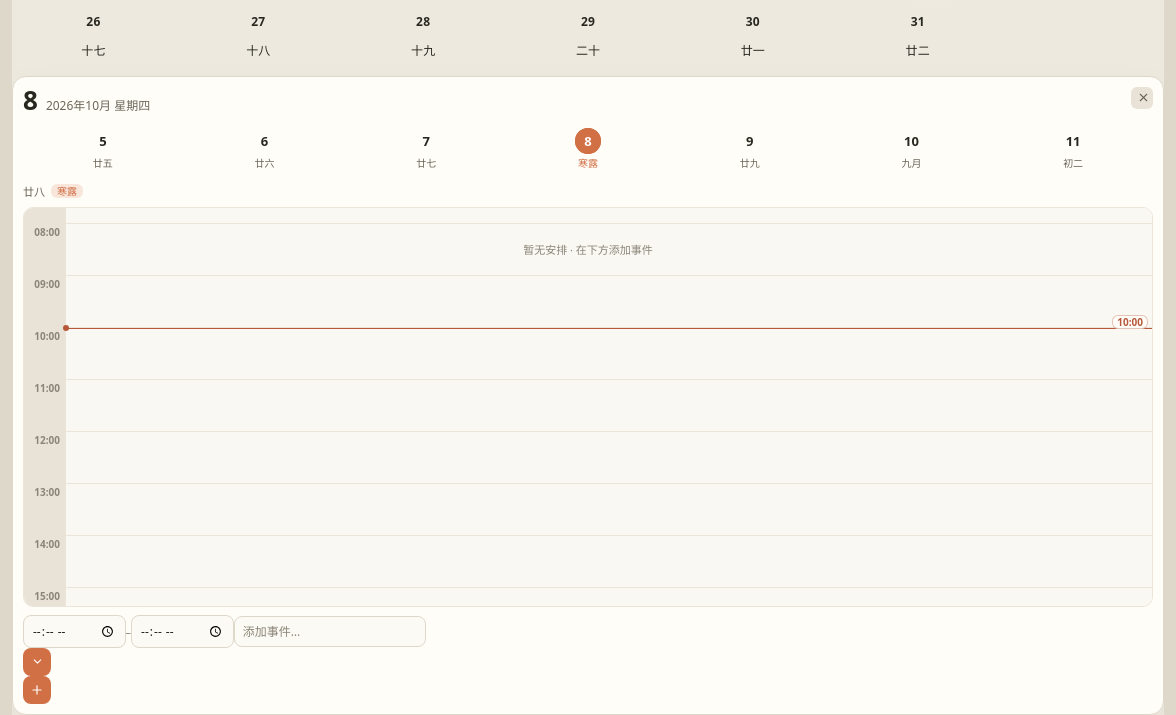
Test case: CalendarWidget 组件级回归 › 添加定时事件：表单提交 → localStorage 落盘 + 时间线出块 + 空态消失
This screenshot has width=1176, height=715.
(page scrolled)
Type "14:00" into the time field titled "开始时间（可选）" at (74, 631), box [23,615,126,648]
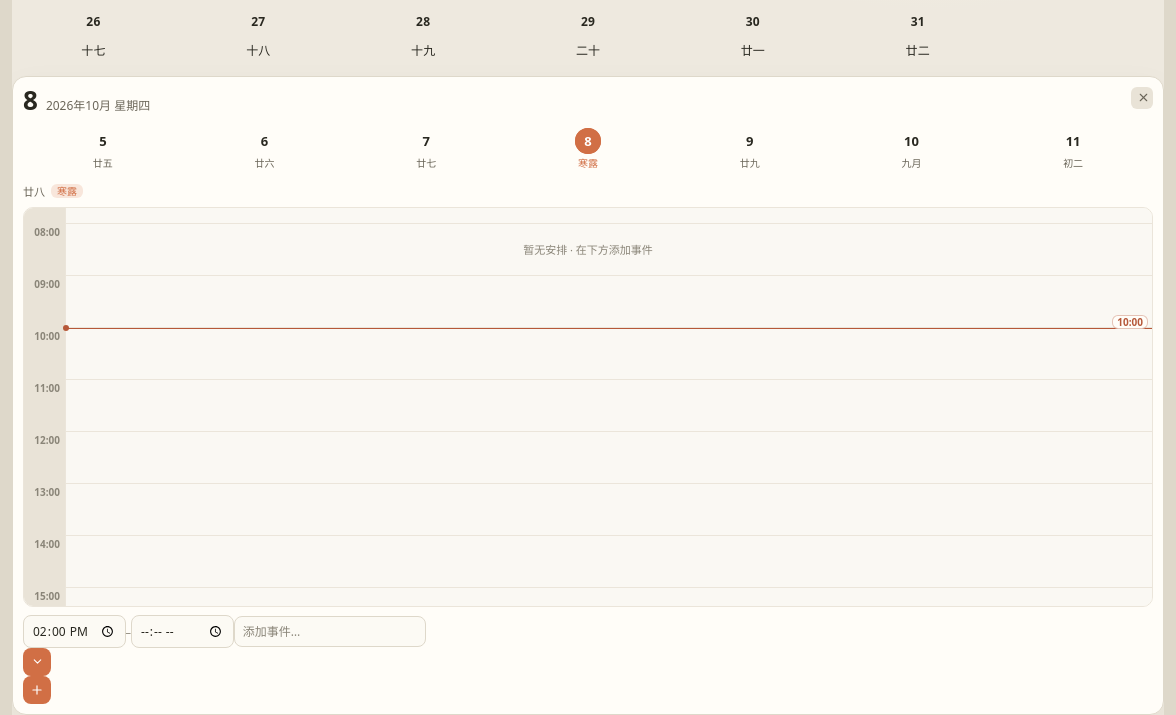
Type "下午评审" into the field with placeholder "添加事件…" at (330, 631), box [234,616,426,647]
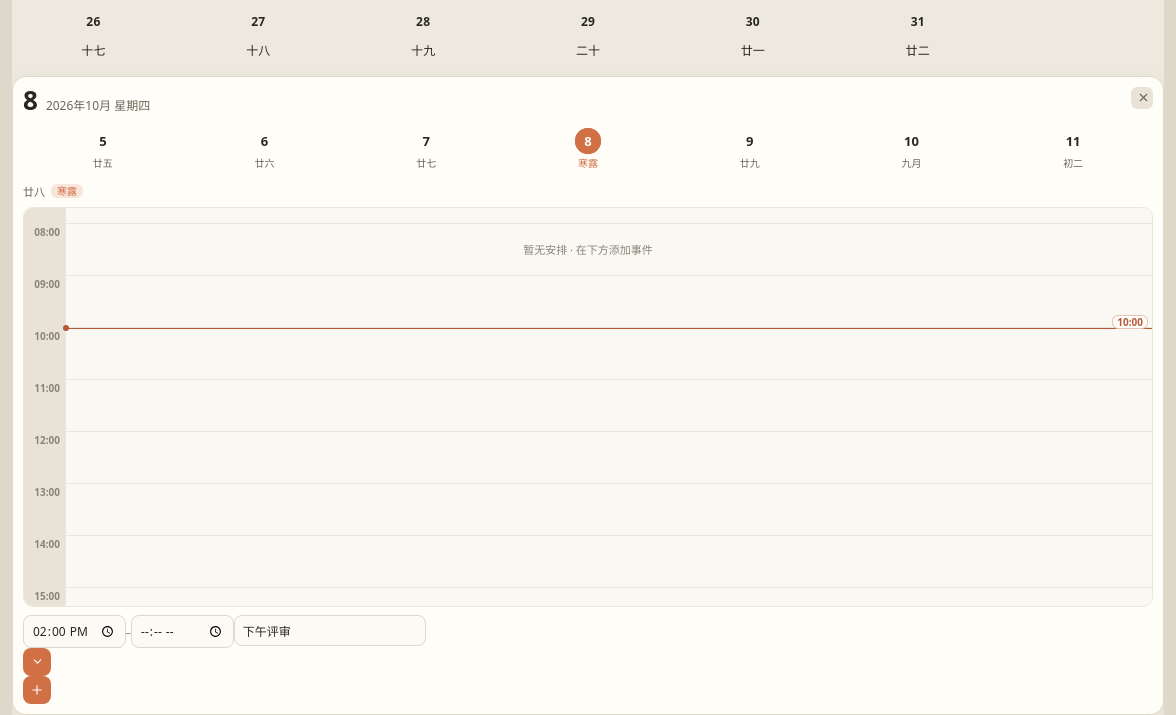
Click the button named "添加" at (37, 690), box [23,676,51,704]
(page scrolled)
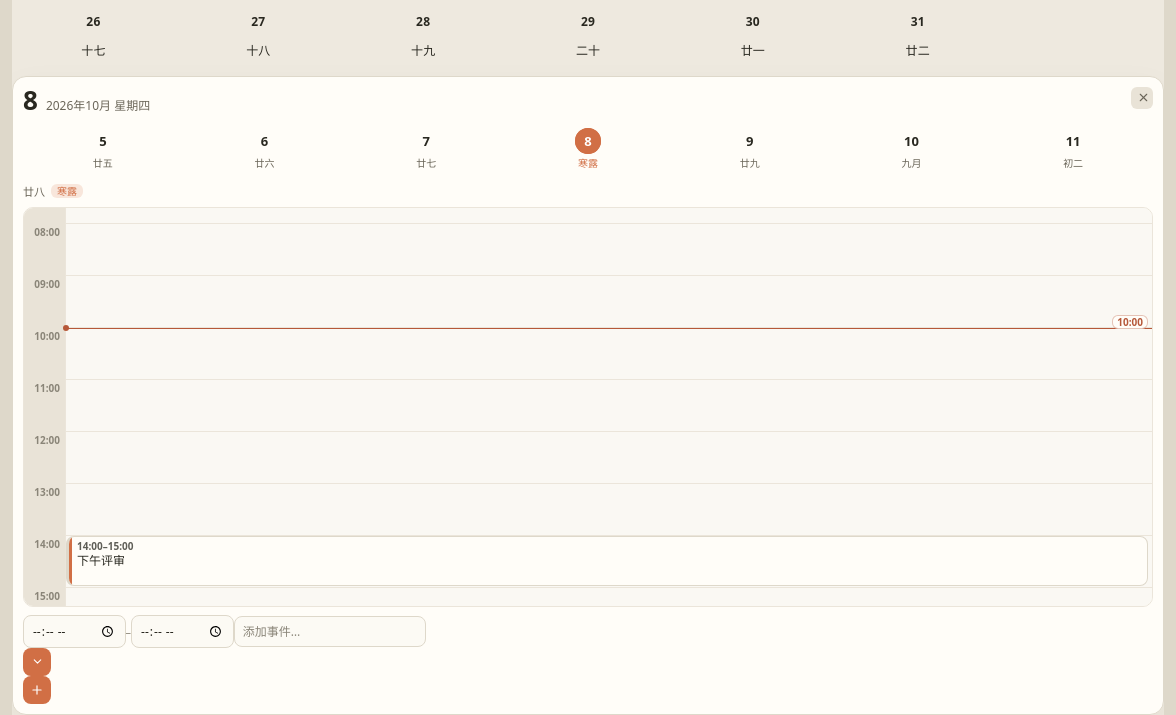
Check: the button "14:00–15:00 下午评审" is shown, box [66,536,1148,586]
Check: the text "暂无安排" is gone
